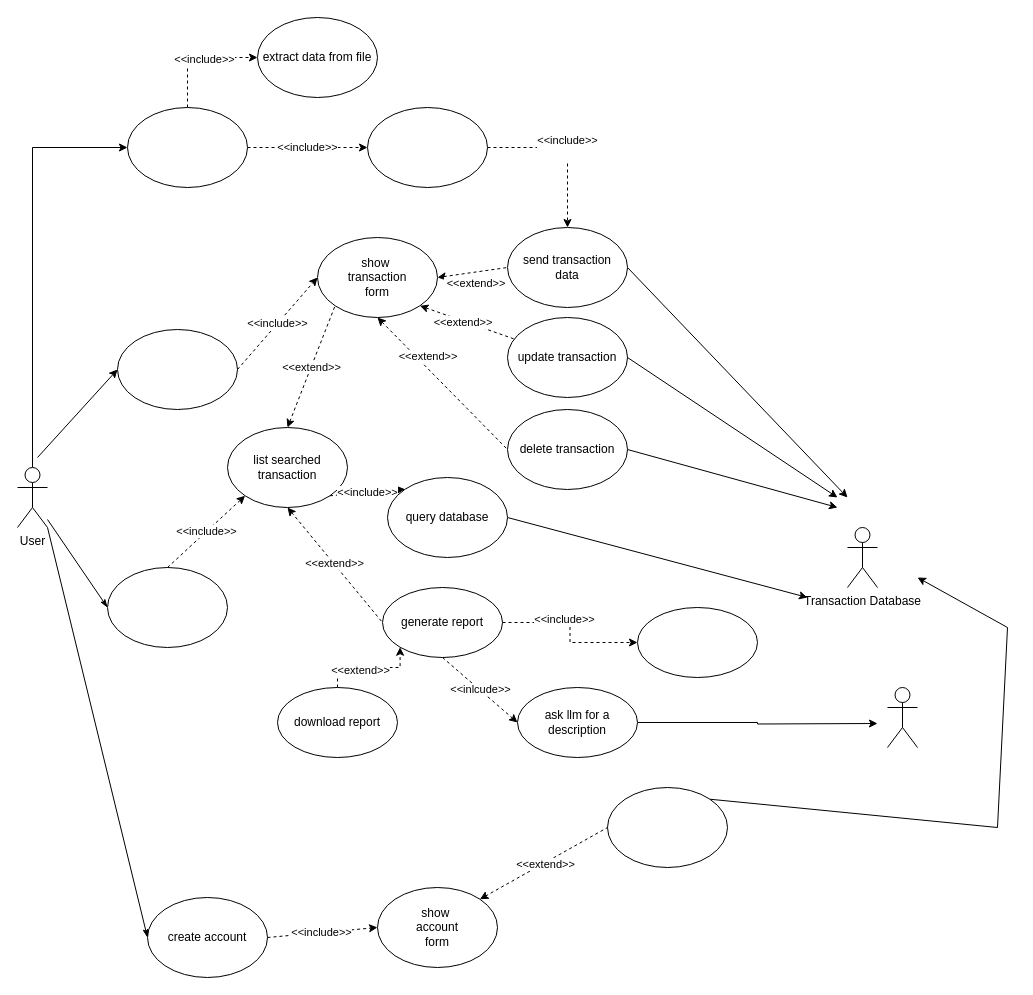
Some shapes in this 1033 by 995 pixel diagram are drawn without their labels. Here are the shapes that lost their labels. From the top down, the centre of each, then its label:
At point (187, 147): "insert transaction from file".
At point (427, 147): "send multiple transaction data".
At point (177, 369): "insert new transaction".
At point (167, 607): "search a transaction".
At point (697, 642): "generate dashboard".
At point (902, 717): "llm".
At point (667, 827): "send account data".
